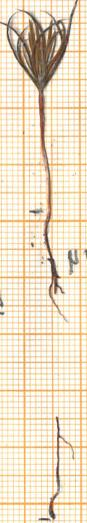flower: (2, 1, 85, 91)
root: (39, 213, 74, 327)
stem: (34, 93, 56, 215)
